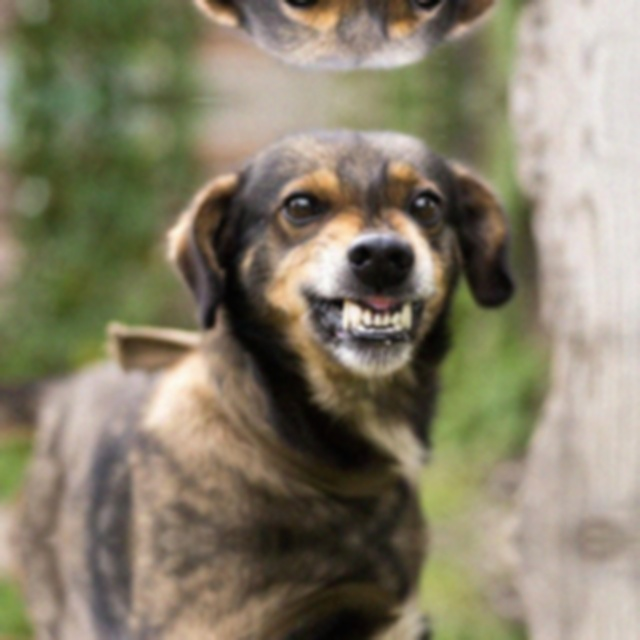dog: (155, 106, 524, 389), (154, 0, 523, 91)
